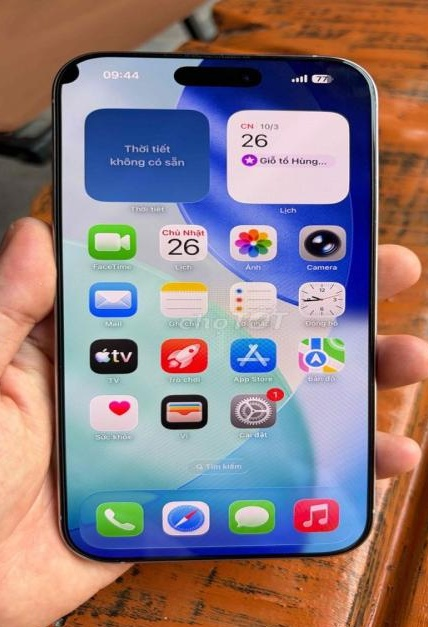screen_defect: (35, 52, 95, 93)
